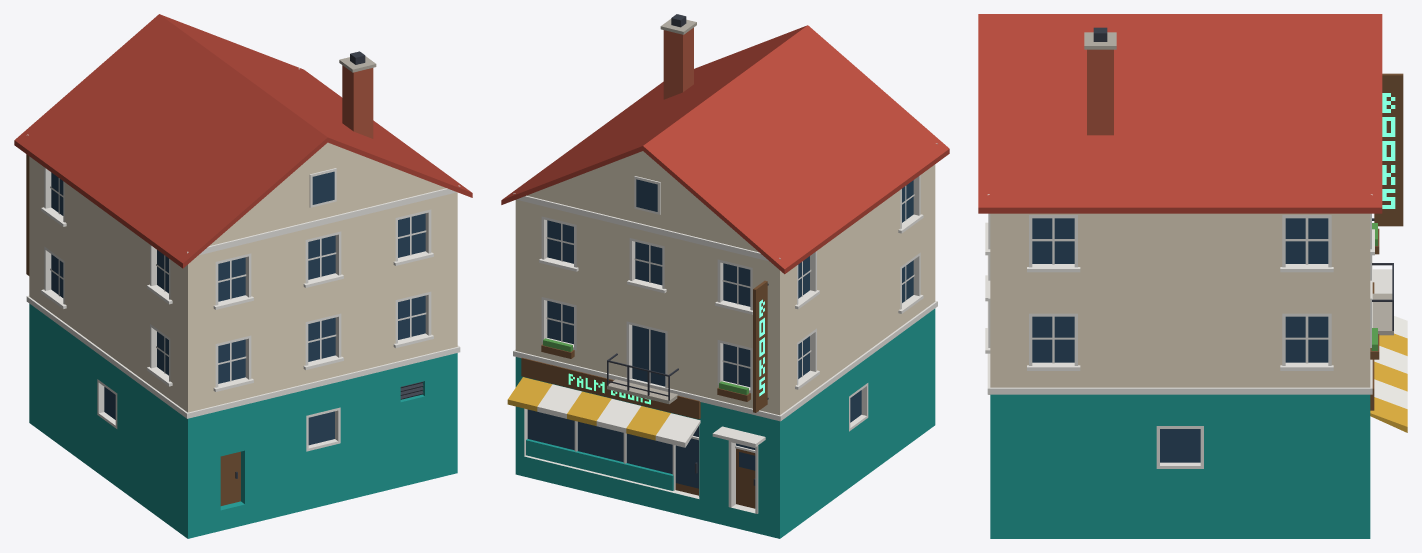
File: storefront_b.glb
3 views of the same model, side by side, from view 1: azimuth 30°, elevation 25°; view 2: azimuth 150°, elevation 25°; view 3: azimuth 270°, elevation 25° (orthographic). The views are drawn at different scales.
Parts seen in each view (by area): view 1: Building, Building_Glass; view 2: Building, Building_Glass, Building_Detail, Building_Neon; view 3: Building, Building_Glass, Building_Detail, Building_Neon.
Boxes of the visible parts, <box> form: Building: <box>14,14,472,538</box>; Building_Glass: <box>51,171,425,445</box>; Building: <box>501,14,949,538</box>; Building_Glass: <box>527,179,913,488</box>; Building_Detail: <box>507,280,768,485</box>; Building_Neon: <box>568,299,764,404</box>; Building: <box>978,14,1393,538</box>; Building_Glass: <box>1032,218,1328,462</box>; Building_Detail: <box>1370,73,1407,432</box>; Building_Neon: <box>1382,93,1395,208</box>.
Size of the model in its own units: 11.8 by 15.5 by 12.65.
